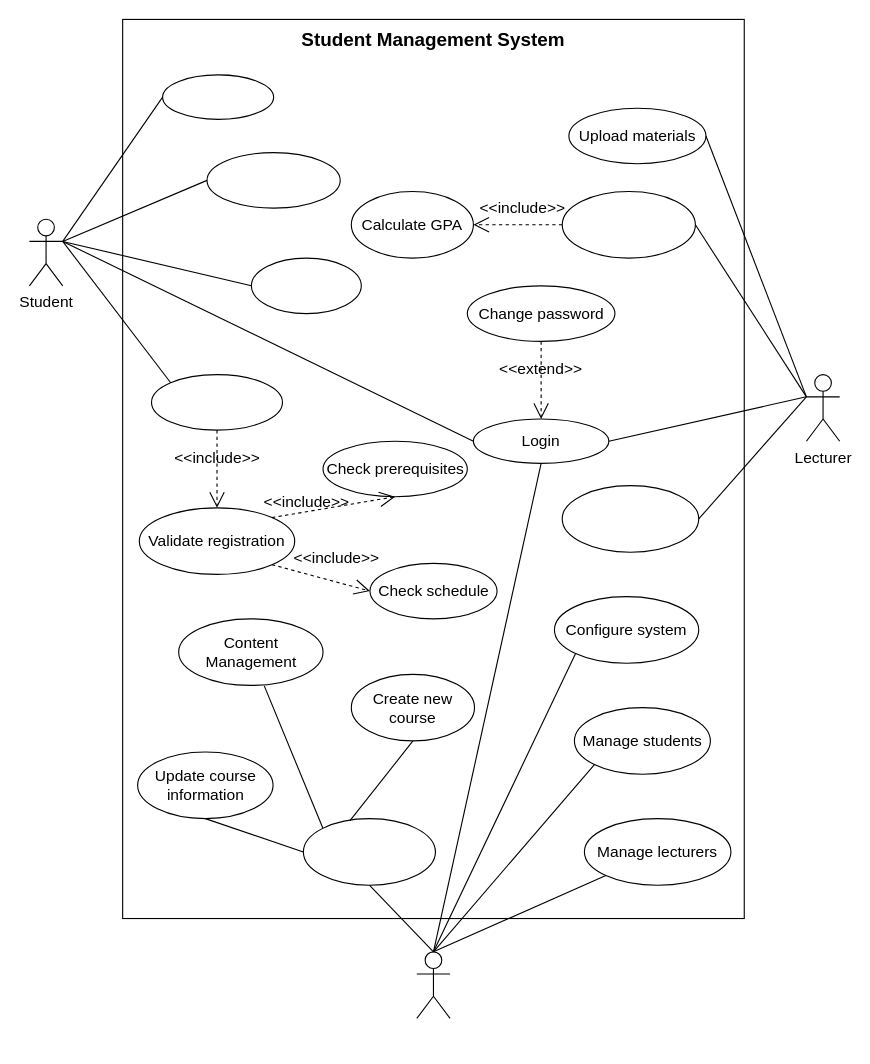
This 870x1064 diagram has some shape labels left out. Each missing label, with the centre of its shape:
"Admin" belongs at pixel 433 984.
"Enter grades" belongs at pixel 628 224.
"Manage courses" belongs at pixel 368 851.
"Register courses" belongs at pixel 216 402.
"View grades" belongs at pixel 305 285.
"View profile" belongs at pixel 218 96.
"View teaching schedule" belongs at pixel 630 518.
"View timetable" belongs at pixel 273 180.
